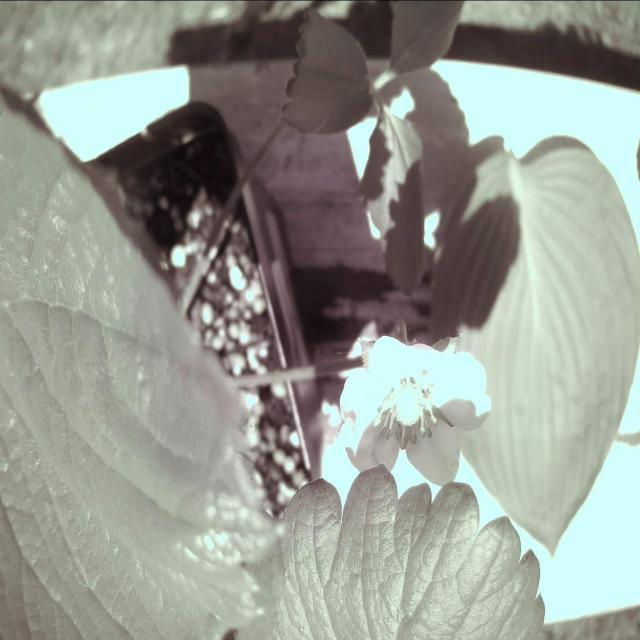flower: (336, 337, 504, 492)
